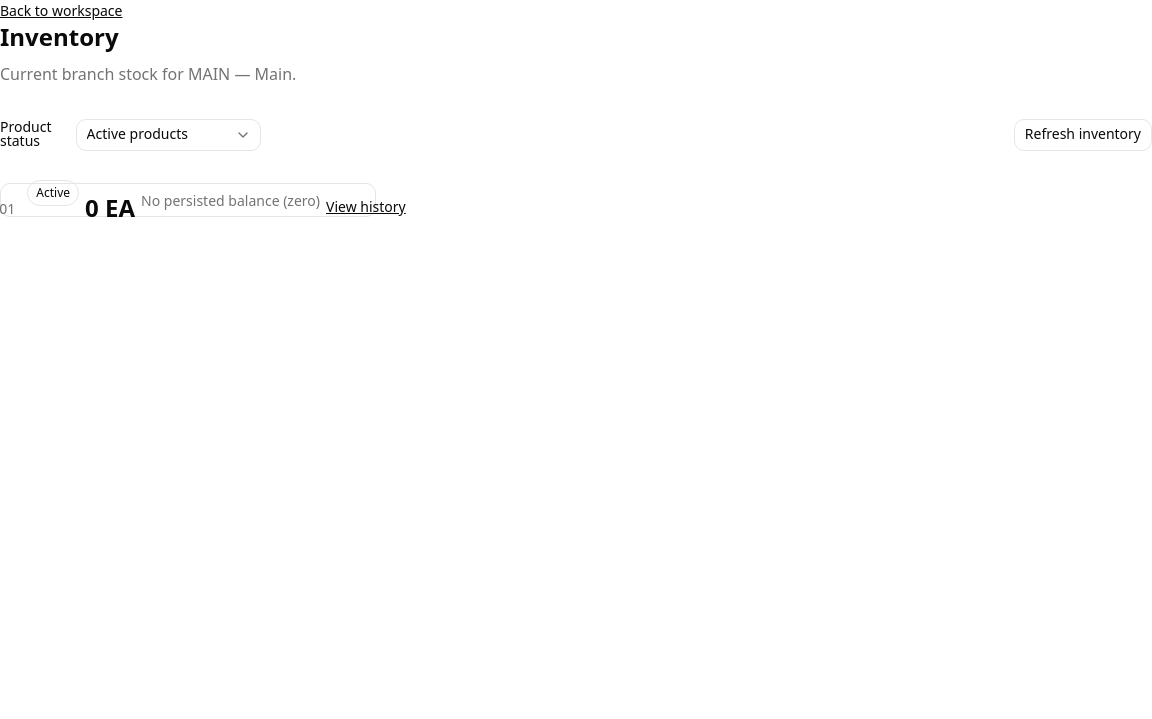
Test: inventory management UI › labels PURCHASE_RECEIVE history by its stored provenance
The image size is (1152, 719).
Click the button "Tea". click: point(188, 200)
box: left=0, top=183, right=376, bottom=217
(page scrolled)
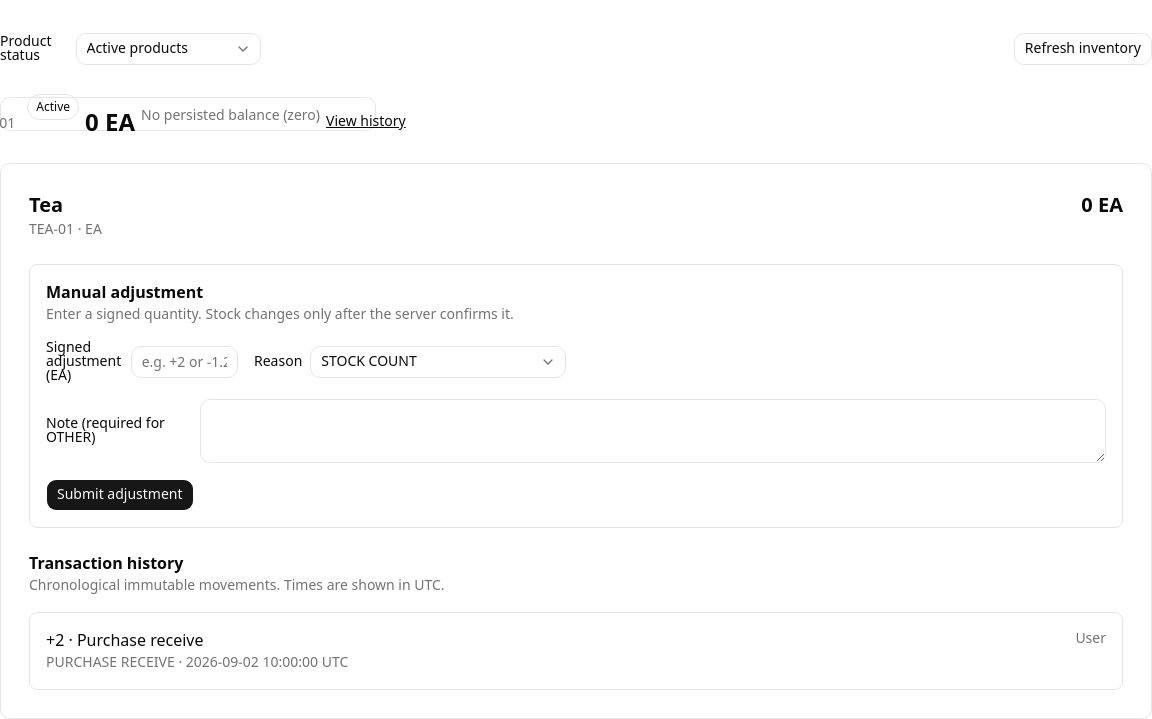
Expected: the text "+2 · Purchase receive" is shown, left=46, top=629, right=204, bottom=653
